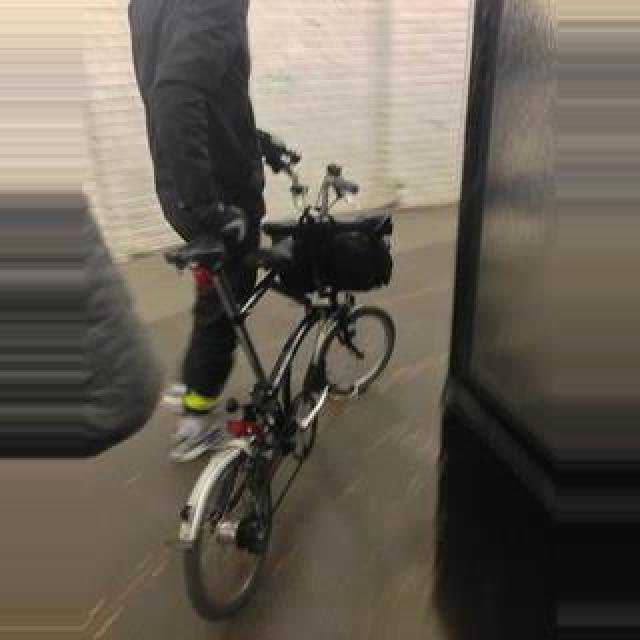MC-Bike: (126, 4, 308, 438)
Person: (160, 148, 402, 610)
